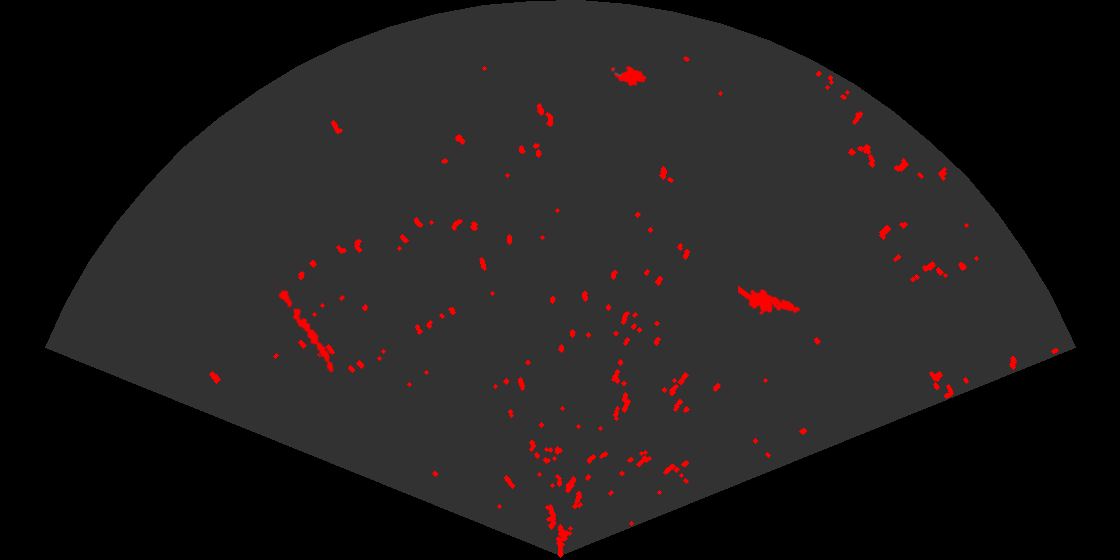AUV: (609, 64, 648, 88)
chain: (270, 278, 336, 374)
frogman: (738, 284, 802, 316)
